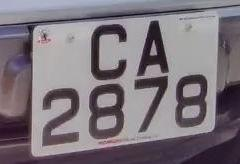2: (35, 76, 86, 150)
7: (130, 70, 173, 140)
8: (81, 77, 134, 142), (172, 68, 213, 134)
A: (133, 17, 177, 80)
C: (84, 19, 133, 82)
